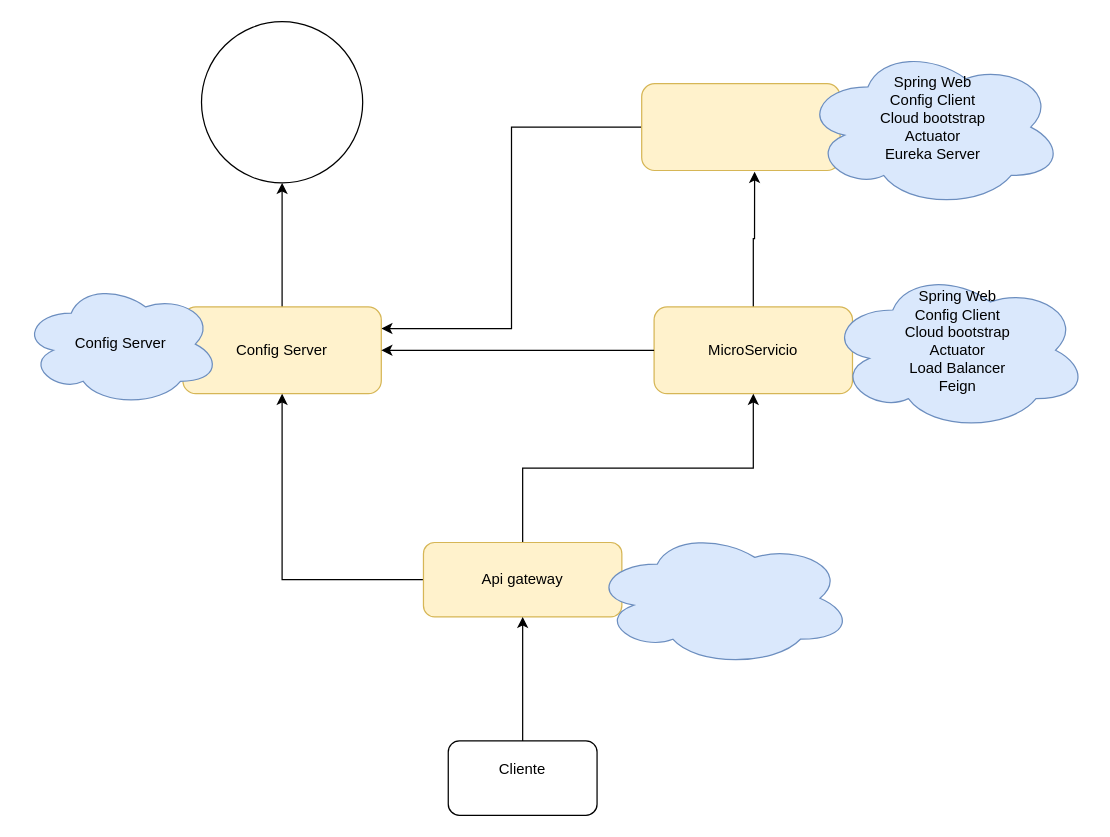
Some shapes in this 1110 by 837 pixel diagram are drawn without their labels. Each missing label, with the centre of its shape:
"Config Client Cloud bootstrap Discovery Client Gateway Actuator" goes at point (721, 597).
"Eureka Server" goes at point (740, 126).
"GitHub" goes at point (281, 101).
